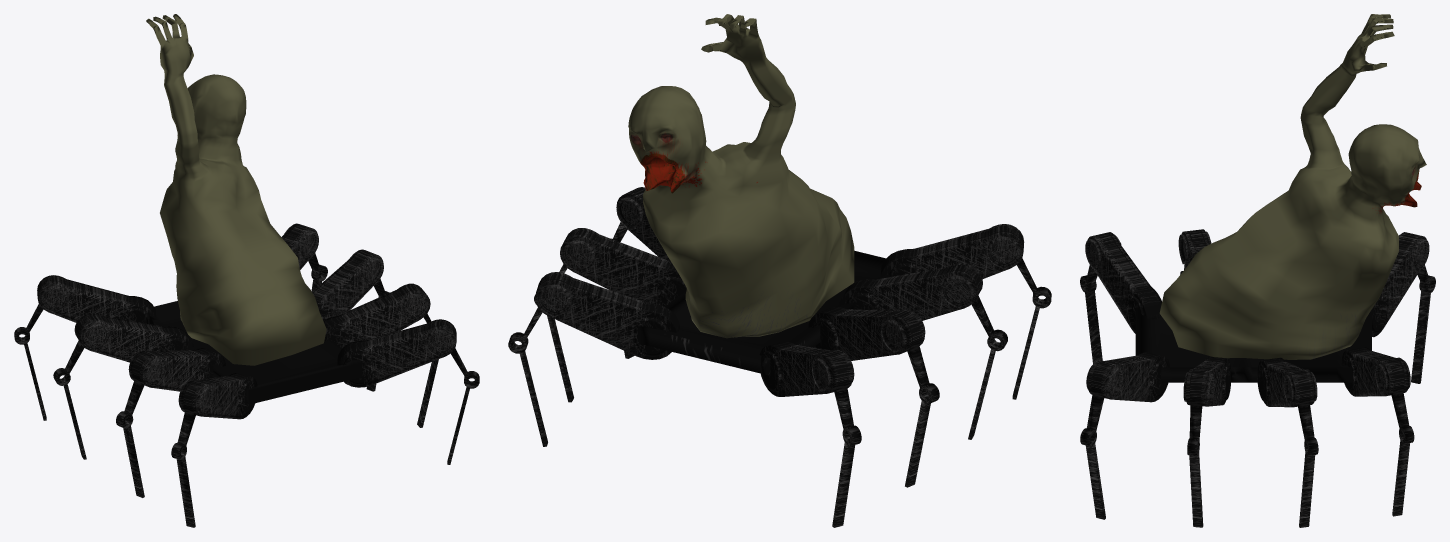
File: Stalker.fbx
3 renders of one model, left to right at view 1: azimuth 30°, elevation 25°; view 2: azimuth 150°, elevation 25°; view 3: azimuth 270°, elevation 25°, orthographic. The views are drawn at different scales.
Parts seen in each view (by area): view 1: Stalker_LowPolyAndLegsUnwrapped:polySurface2; view 2: Stalker_LowPolyAndLegsUnwrapped:polySurface2; view 3: Stalker_LowPolyAndLegsUnwrapped:polySurface2.
Boxes of the visible parts, x1,y1,x2,y2 form: Stalker_LowPolyAndLegsUnwrapped:polySurface2: (14,14,479,527); Stalker_LowPolyAndLegsUnwrapped:polySurface2: (508,14,1051,527); Stalker_LowPolyAndLegsUnwrapped:polySurface2: (1080,14,1435,527).
Bounding box in the file's own units: 3.88 × 4.25 × 3.29.
Materials: 1 (1 with a texture image).
